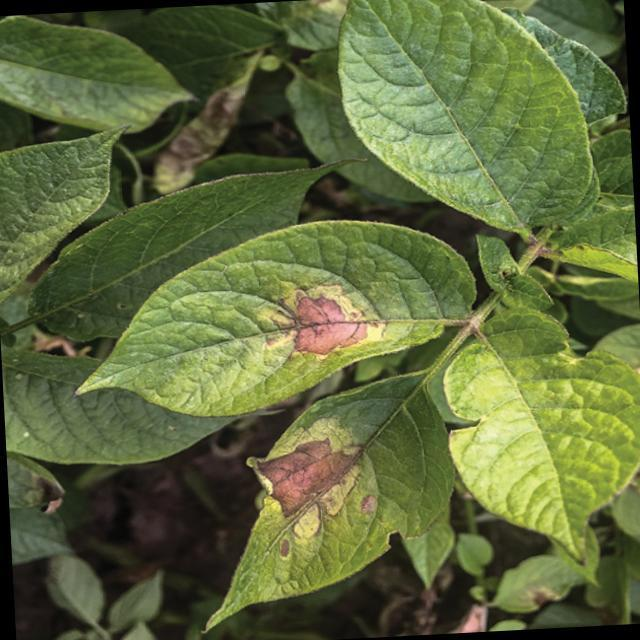Healthy Leaf: (334, 0, 613, 237), (449, 319, 640, 560), (0, 8, 200, 140)
